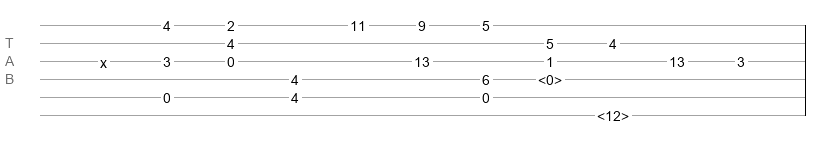0: (163, 90, 171, 100), (227, 54, 235, 64), (482, 90, 490, 100)
1: (546, 54, 554, 64)
11: (350, 18, 366, 28)
13: (414, 54, 430, 64), (669, 54, 685, 64)
2: (227, 18, 235, 28)
3: (163, 54, 171, 64), (737, 54, 745, 64)
4: (163, 18, 171, 28), (227, 36, 235, 46), (291, 72, 299, 82), (291, 90, 299, 100), (609, 36, 617, 46)
5: (482, 18, 490, 28), (546, 36, 554, 46)
6: (482, 72, 490, 82)
9: (418, 18, 426, 28)
harmonic: (597, 108, 629, 118), (538, 72, 562, 82)
x: (100, 55, 107, 63)
